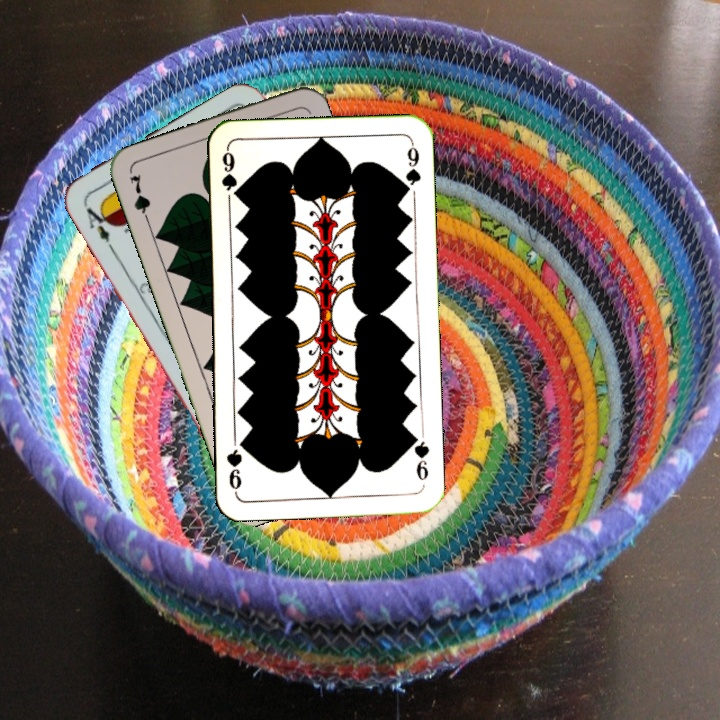EA: (79, 199, 116, 253)
G7: (125, 170, 153, 228)
G9: (407, 429, 432, 483), (218, 145, 240, 201)
